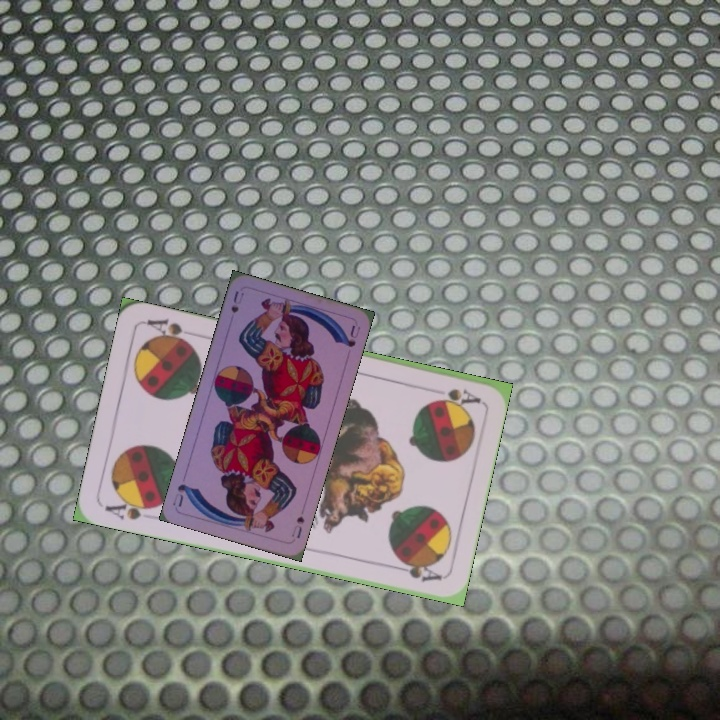SA: (100, 494, 161, 523), (432, 384, 483, 407)
SU: (287, 512, 307, 541), (227, 287, 246, 315)
